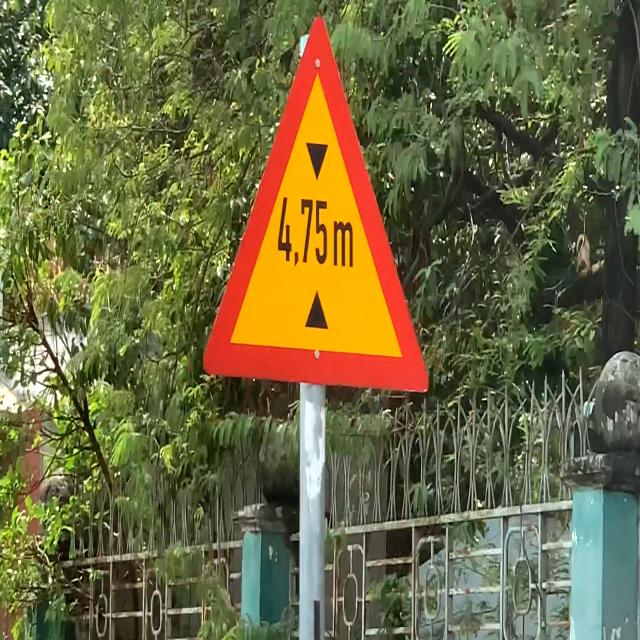S.509a: (201, 13, 430, 394)
